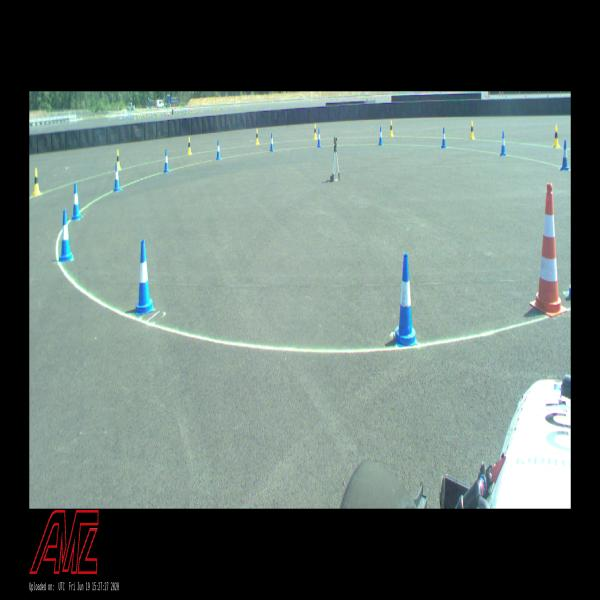blue_cone: (393, 252, 418, 346), (134, 241, 155, 312), (58, 211, 73, 262), (71, 183, 82, 220), (560, 140, 570, 171), (113, 163, 121, 191), (499, 132, 506, 155), (164, 149, 170, 172), (441, 127, 446, 148), (216, 140, 221, 160), (378, 126, 383, 146), (270, 133, 274, 153), (317, 128, 321, 147)
large_orange_cone: (530, 182, 568, 317)
yellow_cone: (32, 168, 41, 196), (553, 126, 559, 148), (469, 121, 474, 139), (255, 128, 260, 144), (389, 121, 394, 136), (188, 137, 192, 155), (116, 150, 120, 168), (314, 123, 318, 139)
